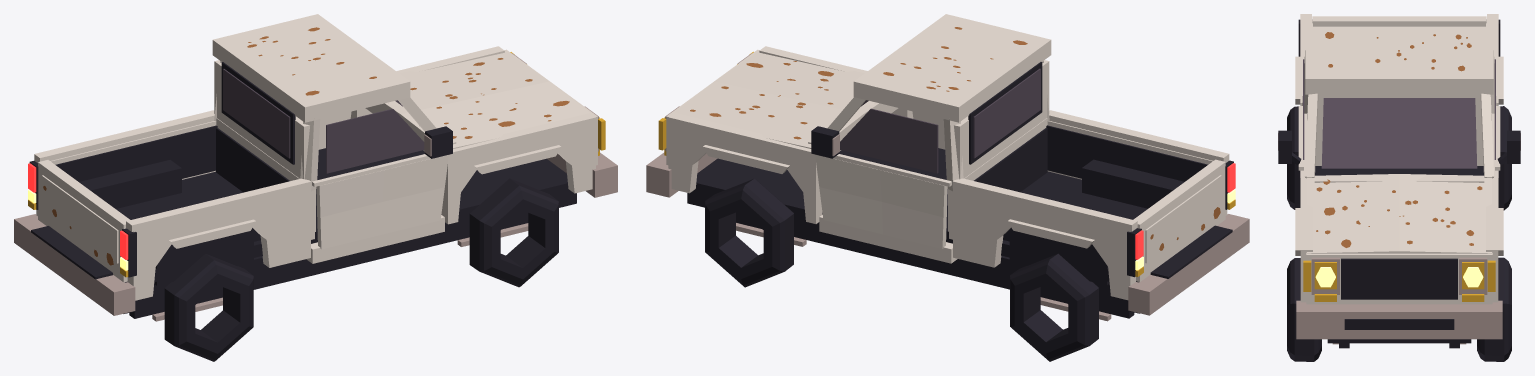
File: veh.pickup-white.lod2.glb
3 renders of one model, left to right at view 1: azimuth 30°, elevation 25°; view 2: azimuth 150°, elevation 25°; view 3: azimuth 270°, elevation 25°, orthographic.
Parts seen in each view (by area): view 1: body, object 8, wheelFR, wheelRR; view 2: body, object 8, wheelFL, wheelRL; view 3: body, object 8, wheelFL, wheelFR, wheelRL, wheelRR, lightsFront.
Boxes of the visible parts, x1,y1,x2,y2 form: body: (14, 14, 617, 321); object 8: (28, 108, 599, 282); wheelFR: (469, 178, 558, 287); wheelRR: (164, 253, 253, 361); body: (646, 14, 1249, 321); object 8: (664, 64, 1235, 281); wheelFL: (705, 178, 793, 287); wheelRL: (1010, 253, 1098, 361); body: (1295, 14, 1503, 348); object 8: (1278, 16, 1520, 289); wheelFL: (1477, 257, 1511, 361); wheelFR: (1287, 258, 1321, 361); wheelRL: (1498, 106, 1511, 210); wheelRR: (1287, 106, 1300, 209); lightsFront: (1303, 260, 1495, 301).
Size of the model in its own units: 4.4 by 1.9 by 1.8.
